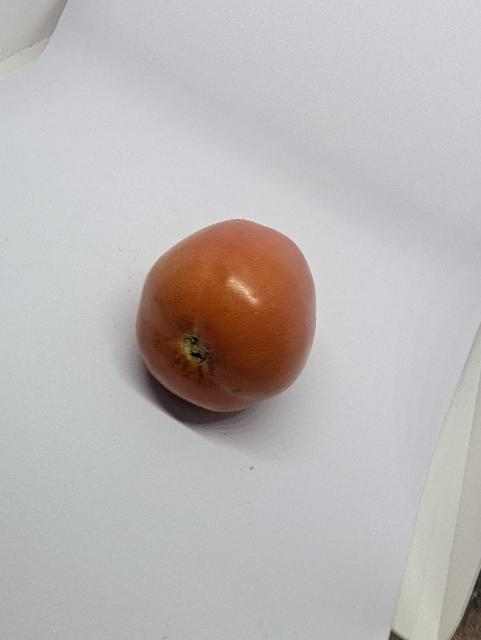red: (119, 191, 341, 454)
